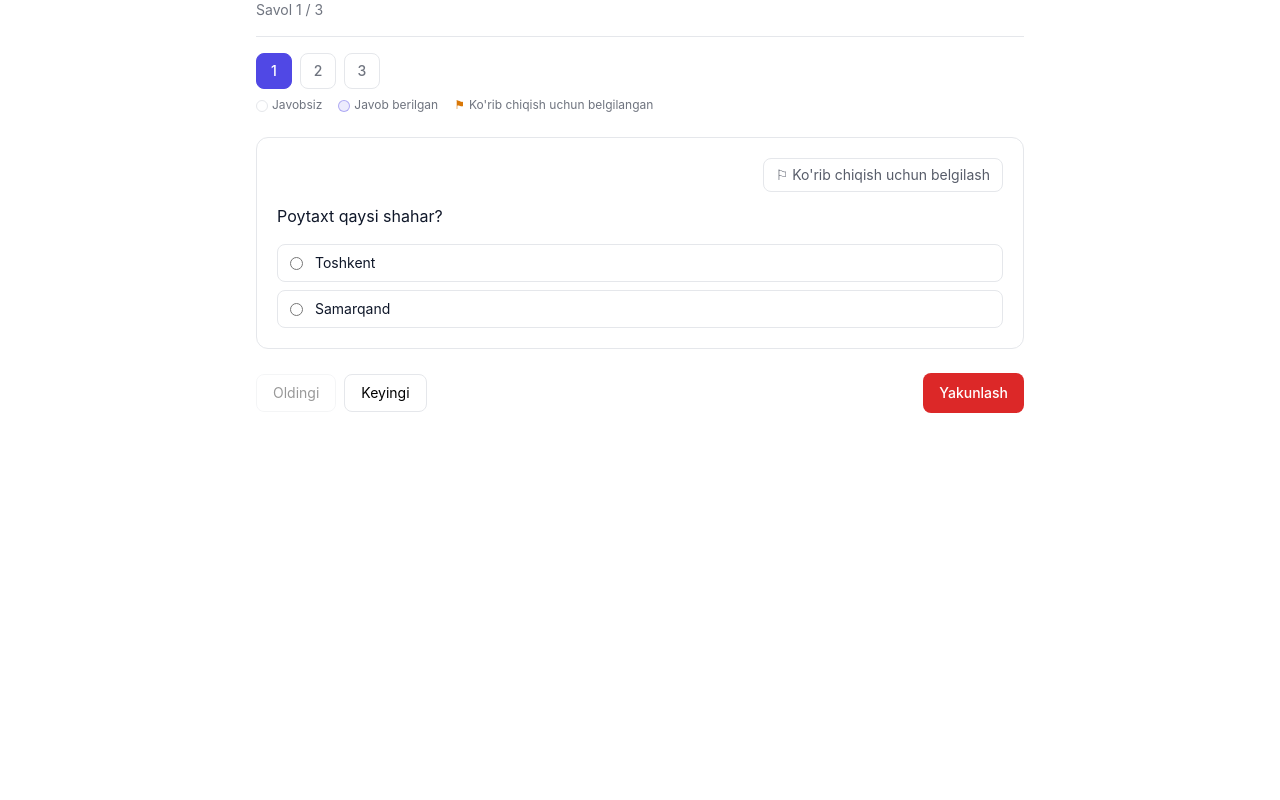
it: AttemptPage — Sprint 67 (C2) multiple_choice support › an unanswered multiple_choice question is not counted as answered (empty selection)
Expected: the text "Toshkent" is shown, [315,253,375,273]
Click the button "Yakunlash": (974, 393) [923,373,1024,413]
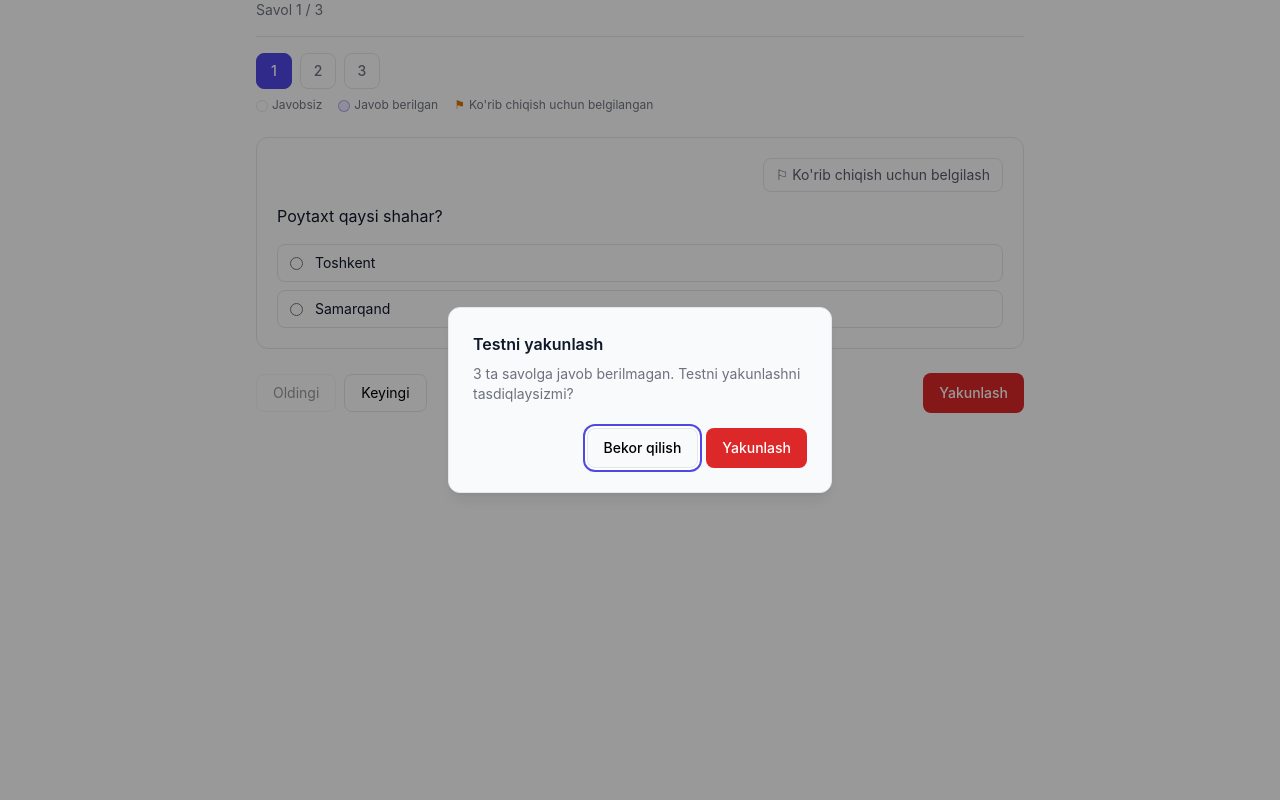
Expected: the text "3 ta savolga javob berilmagan" is shown, [473,365,800,402]
